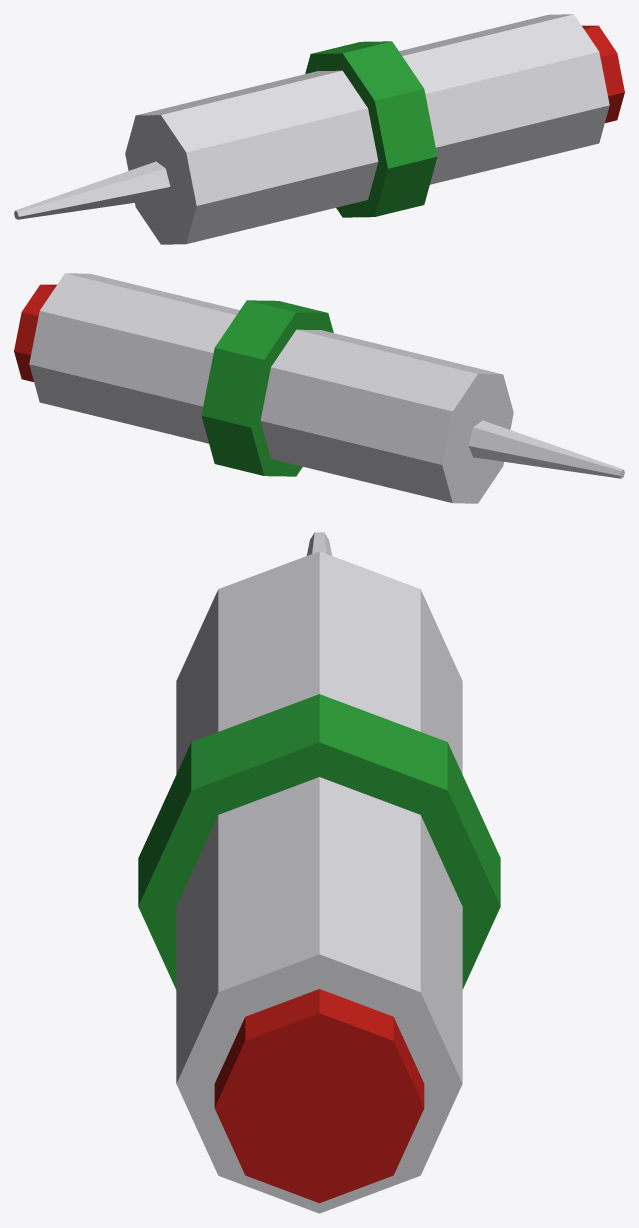
File: MedInjector.obj
3 views of the same model, one above another, from view 1: azimuth 30°, elevation 25°; view 2: azimuth 150°, elevation 25°; view 3: azimuth 270°, elevation 25° (orthographic). The views are drawn at different scales.
Parts seen in each view (by area): view 1: MedInjector; view 2: MedInjector; view 3: MedInjector.
Part boxes in pixels (x1=…): MedInjector: x1=14, y1=14, x2=624, y2=244; MedInjector: x1=14, y1=273, x2=624, y2=503; MedInjector: x1=138, y1=532, x2=500, y2=1213.
Size of the model in its own units: 0.141 by 0.038 by 0.038.
